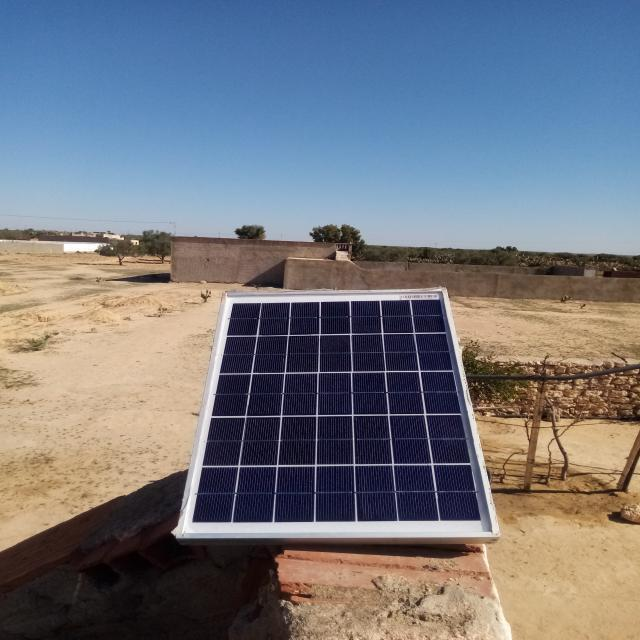Normal Solar Panel: (181, 286, 492, 535)
